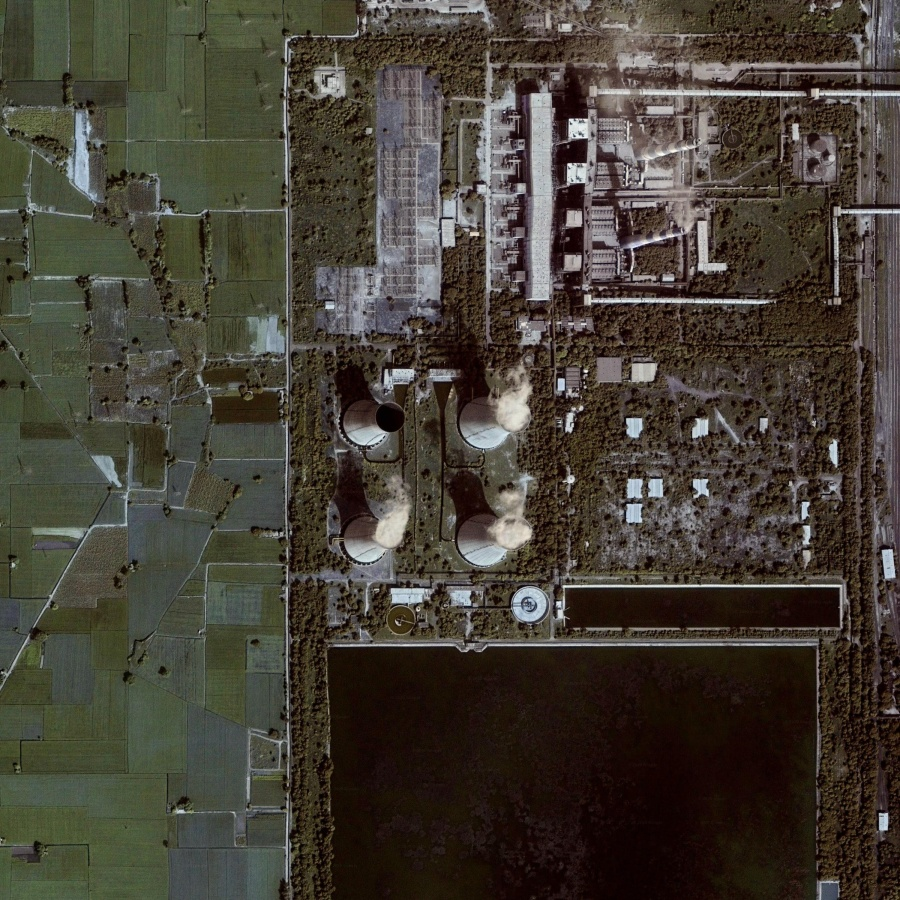PowerPlant: (310, 67, 877, 583)
